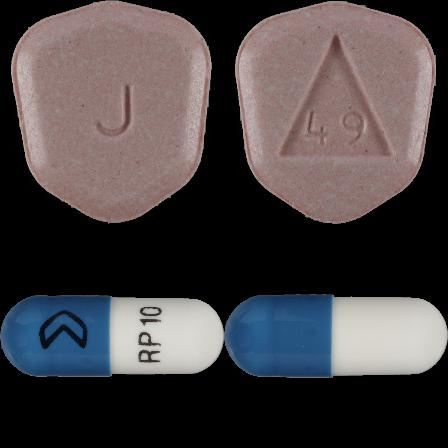51655-300: (0, 0, 224, 224)
